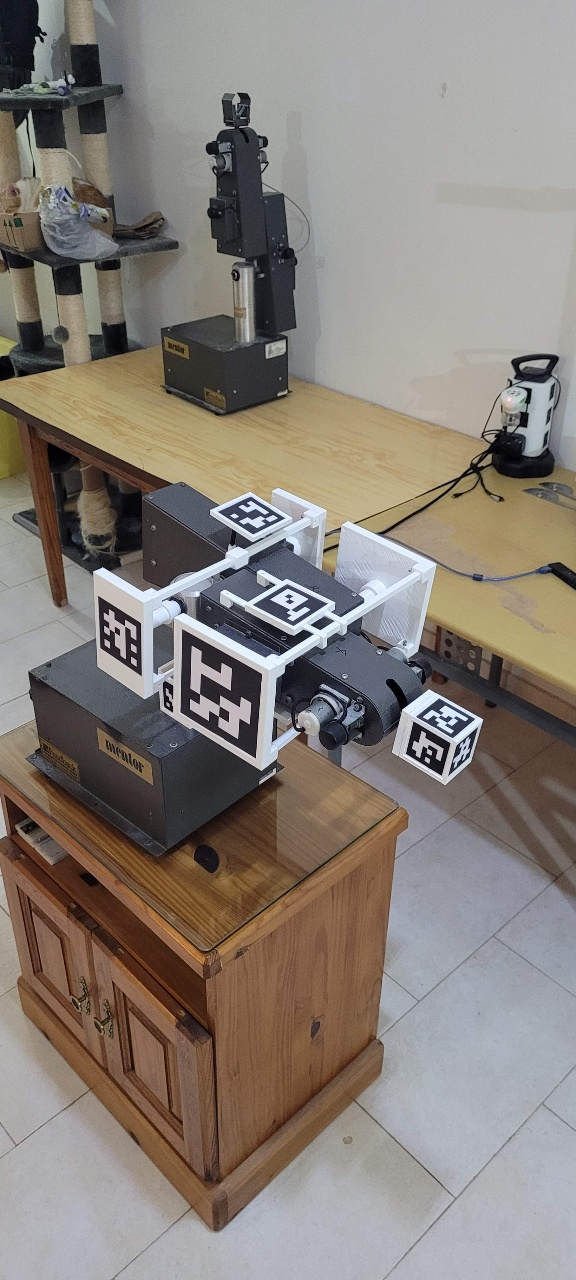Robot: (19, 94, 517, 1078)
